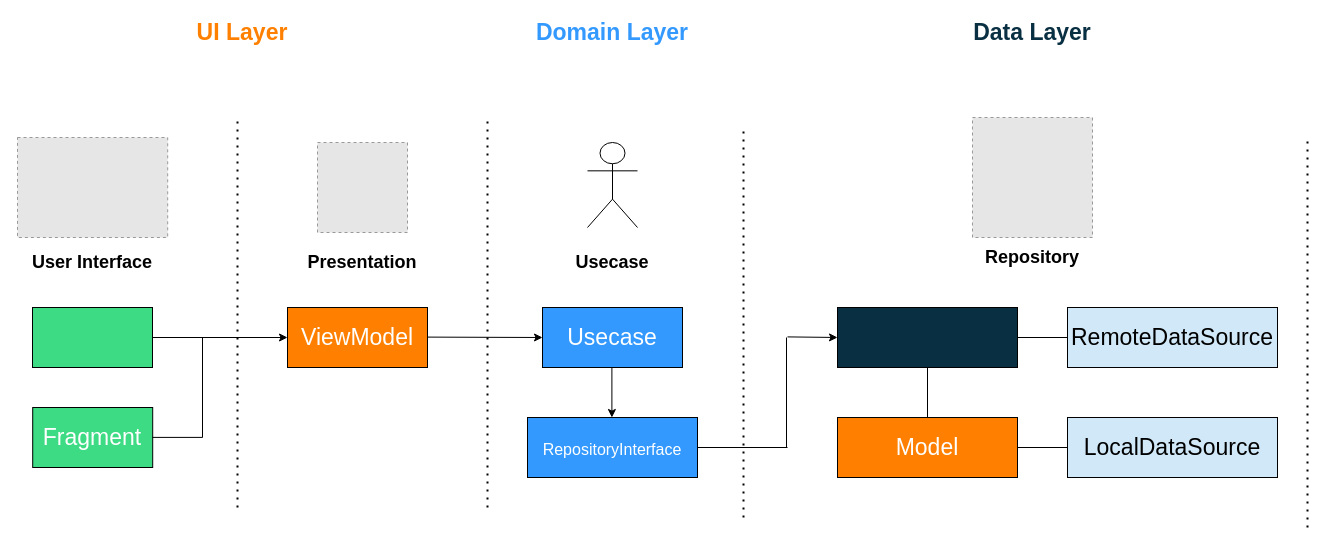
Image size: 1327x546. Some labels were removed from this diagram. Grey dashed boxes stand in for pictures. Here are the shapes that lost their labels. From the top down, the centre of each, then its label:
the point at 612,185: Actor
the point at 92,337: Activity
the point at 927,337: RepositoryImpl
